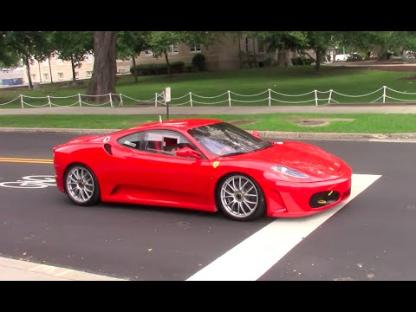car: (47, 115, 359, 224)
